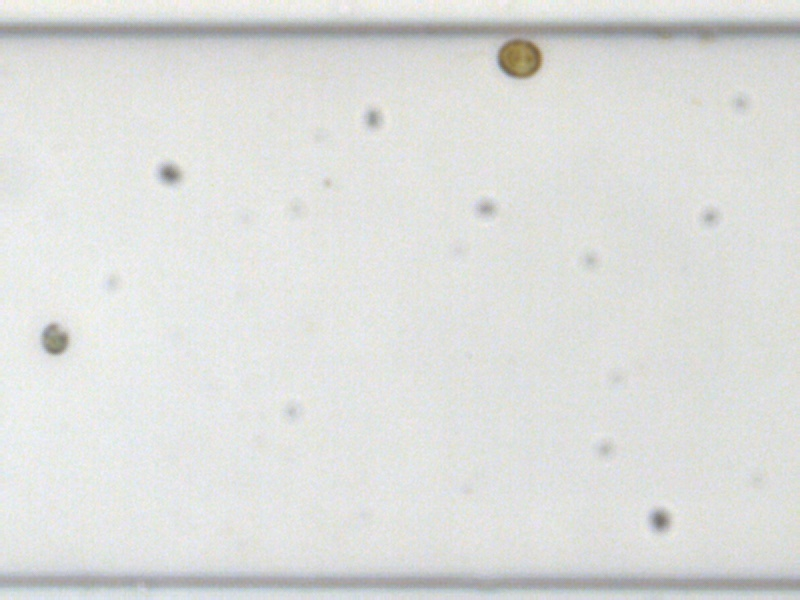Dunaliella salina: (38, 320, 67, 355)
Effrenium: (494, 36, 542, 78)
